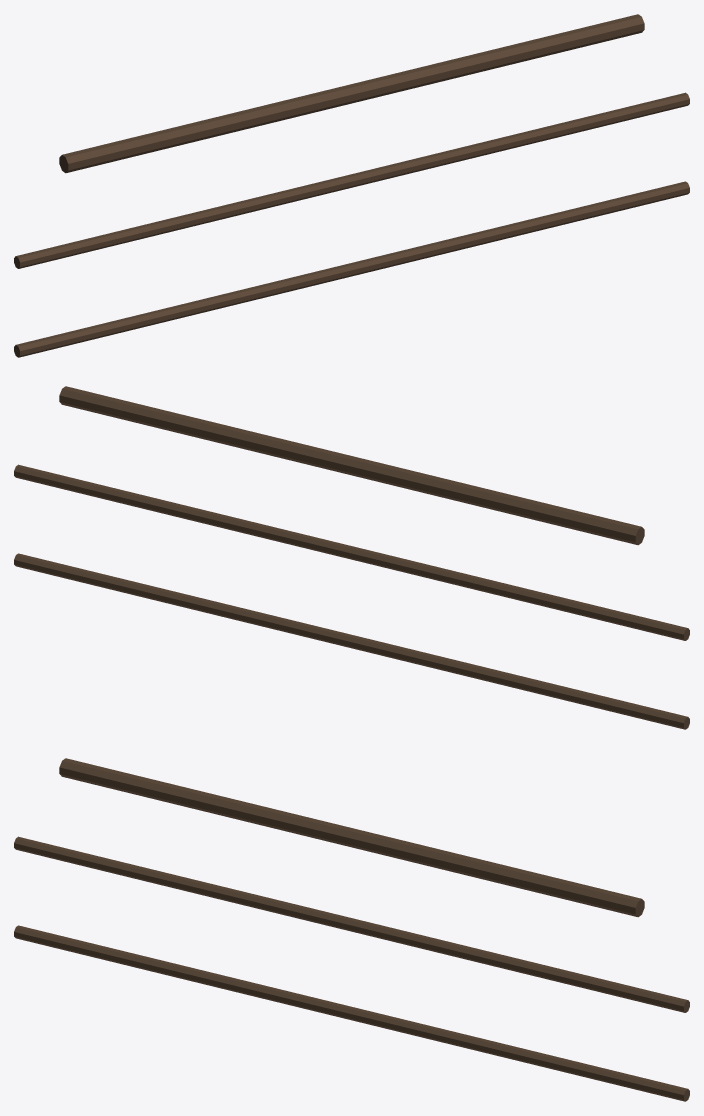
Rendered from SM_Street_GuardPipe_Brown_200_01.gltf.
3 views of the same model, one above another, from view 1: azimuth 30°, elevation 25°; view 2: azimuth 150°, elevation 25°; view 3: azimuth 330°, elevation 25° (orthographic).
Parts seen in each view (by area): view 1: SM_Street_GuardPipe_Brown_200_01; view 2: SM_Street_GuardPipe_Brown_200_01; view 3: SM_Street_GuardPipe_Brown_200_01.
Boxes of the visible parts, bbox=[...] form: SM_Street_GuardPipe_Brown_200_01: bbox=[14, 14, 689, 357]; SM_Street_GuardPipe_Brown_200_01: bbox=[14, 386, 689, 729]; SM_Street_GuardPipe_Brown_200_01: bbox=[14, 758, 689, 1101].
Size of the model in its own units: 1.98 by 0.5339 by 0.0449.
Materials: 1 (1 with a texture image).
